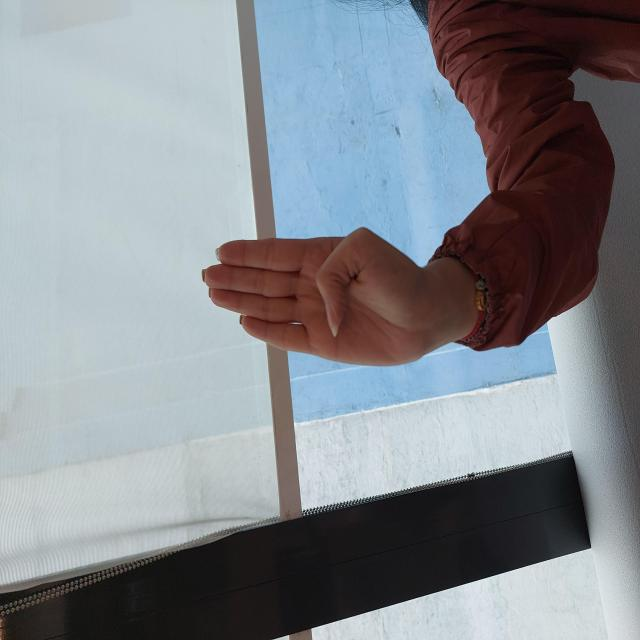B: (271, 202, 416, 437)
